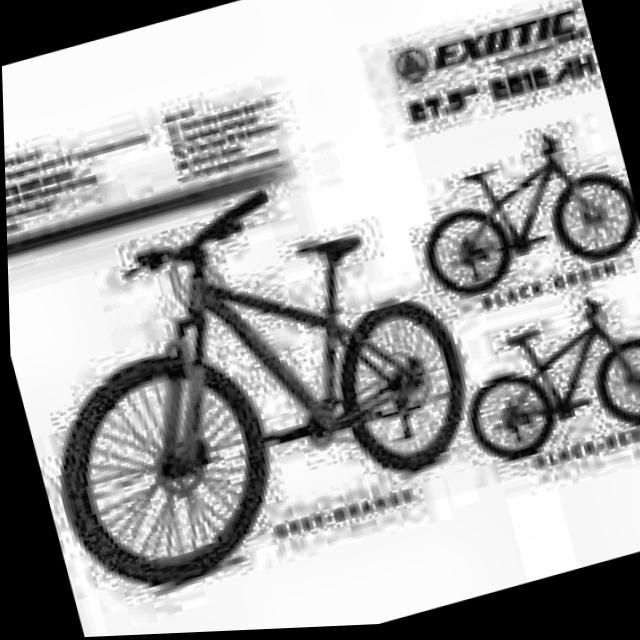motorcycle: (4, 153, 486, 607), (381, 119, 640, 318), (446, 289, 640, 483)
